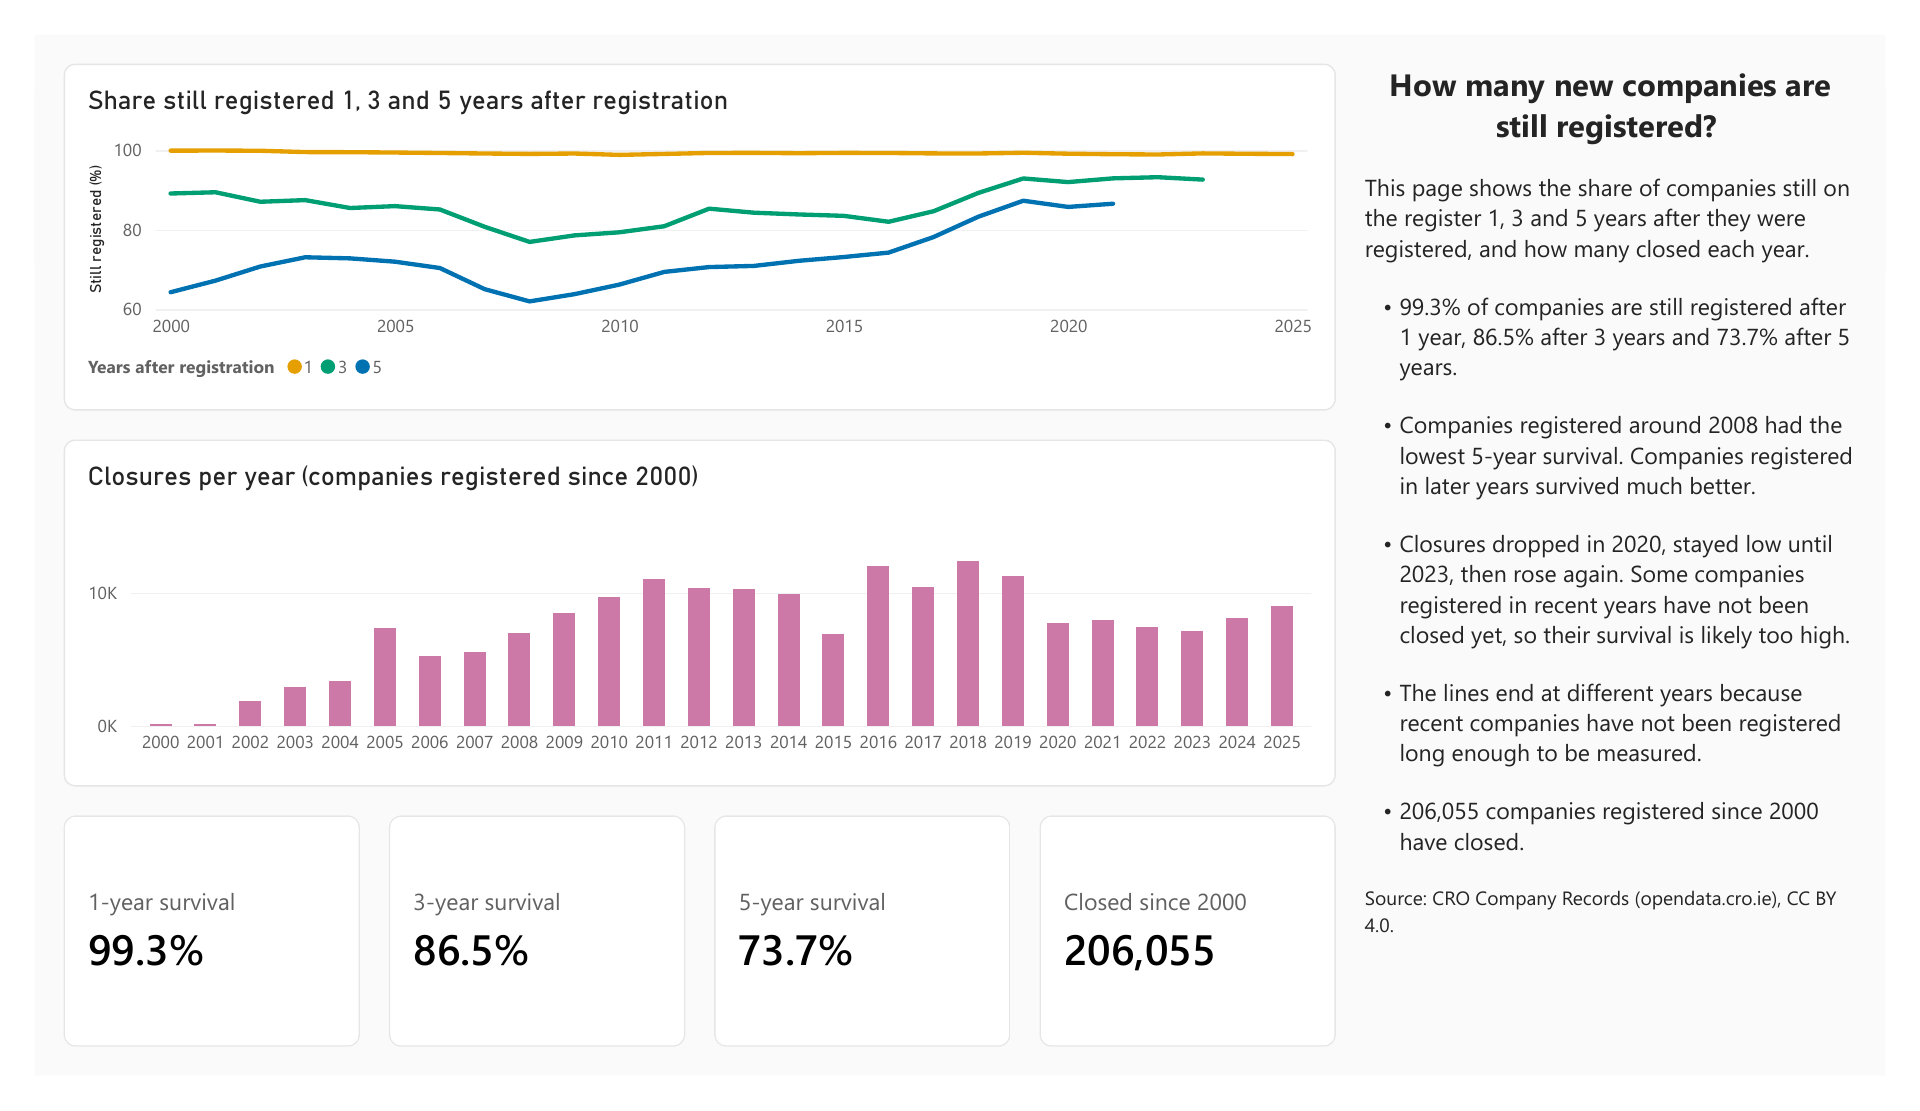

This screenshot's page, from the dashboard's own definition file:
{"tool":"powerbi","page":{"name":"Survival by cohort","canvas":[1280,720],"ordinal":2},"visuals":[{"type":"cardVisual","fields":{"Data":["cohort_survival.1-year survival (label)"]},"box":[20,540,205,160],"z":0},{"type":"cardVisual","fields":{"Data":["cohort_survival.3-year survival (label)"]},"box":[245,540,205,160],"z":1000},{"type":"cardVisual","fields":{"Data":["cohort_survival.5-year survival (label)"]},"box":[470,540,205,160],"z":2000},{"type":"cardVisual","fields":{"Data":["fact_company.Closures (label)"]},"box":[695,540,205,160],"z":3000},{"type":"lineChart","title":"Share still registered 1, 3 and 5 years after registration","fields":{"Category":["cohort_survival.reg_year"],"Series":["cohort_survival.years_after"],"Y":["cohort_survival.Survival %"]},"box":[20,20,880,240],"z":4000},{"type":"textbox","box":[920,20,340,680],"z":5000},{"type":"clusteredColumnChart","title":"Closures per year (companies registered since 2000)","fields":{"Category":["dim_date.year"],"Y":["fact_company.Closures (complete years)"]},"box":[20,280,880,240],"z":6000}]}

Visuals, with their boxes in screenshot pixels (x1, y1, x2, y2), scaled from the page's 1280x720 canvas onto the 1920x1111 screenshot:
cardVisual - cohort_survival.1-year survival (label): {"x1": 30, "y1": 833, "x2": 338, "y2": 1080}
cardVisual - cohort_survival.3-year survival (label): {"x1": 368, "y1": 833, "x2": 675, "y2": 1080}
cardVisual - cohort_survival.5-year survival (label): {"x1": 705, "y1": 833, "x2": 1012, "y2": 1080}
cardVisual - fact_company.Closures (label): {"x1": 1042, "y1": 833, "x2": 1350, "y2": 1080}
"Share still registered 1, 3 and 5 years after registration" lineChart: {"x1": 30, "y1": 31, "x2": 1350, "y2": 401}
textbox: {"x1": 1380, "y1": 31, "x2": 1890, "y2": 1080}
"Closures per year (companies registered since 2000)" clusteredColumnChart: {"x1": 30, "y1": 432, "x2": 1350, "y2": 802}
